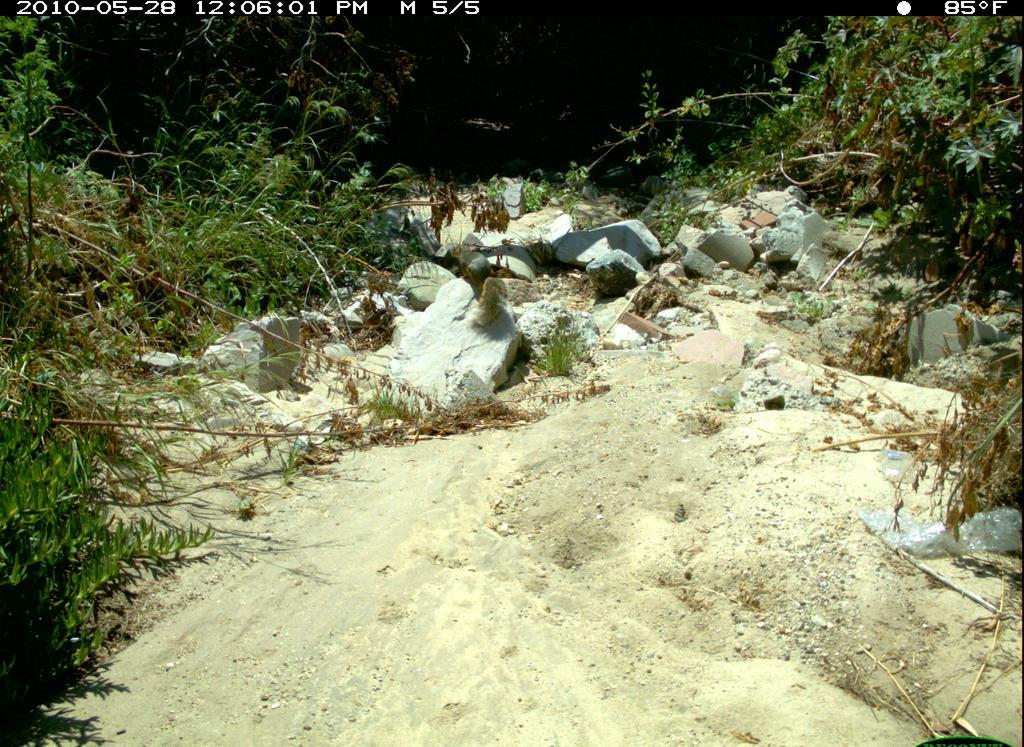squirrel: (464, 264, 520, 344)
